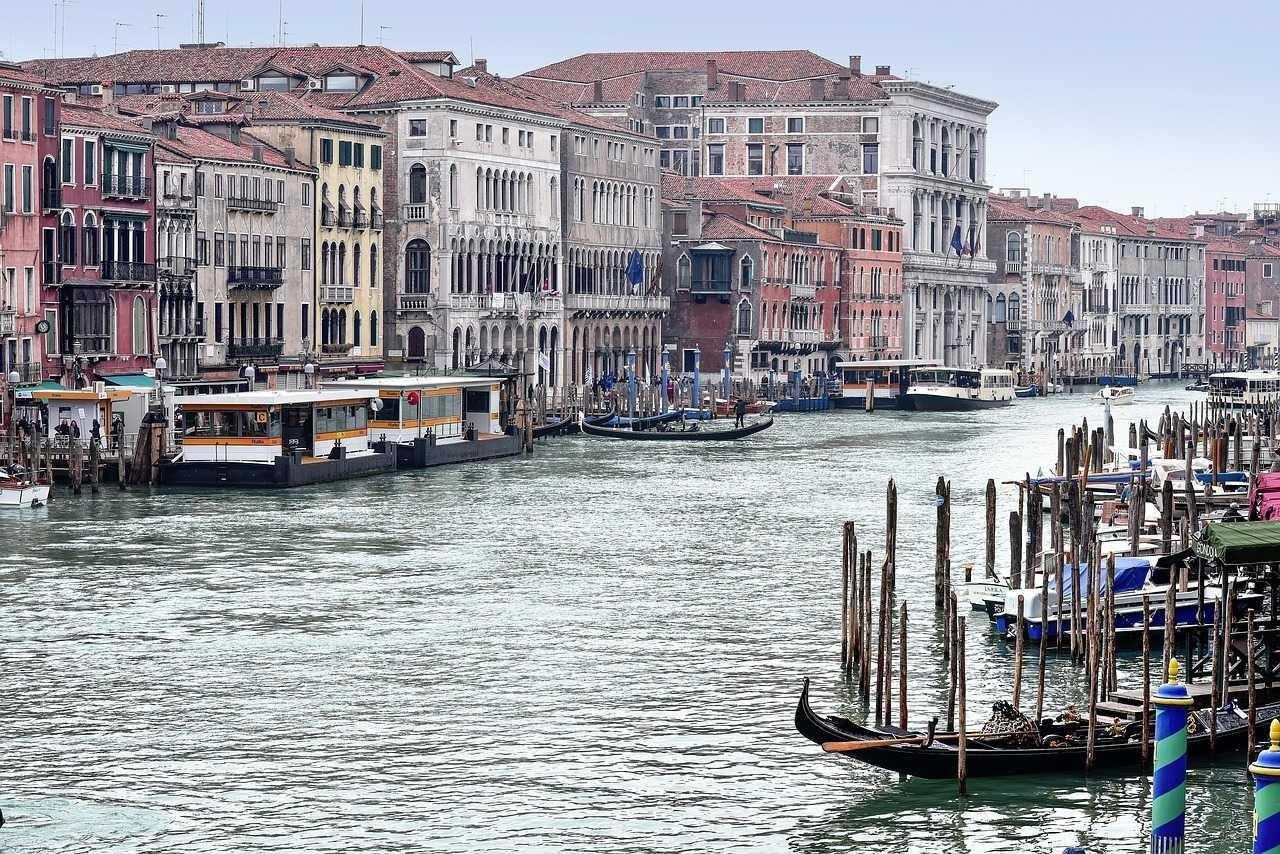kayak: (796, 679, 1276, 780), (158, 382, 398, 487), (992, 555, 1243, 640), (324, 371, 529, 467), (835, 362, 1017, 411), (583, 408, 774, 443), (1247, 717, 1280, 850), (1154, 461, 1243, 500), (1207, 368, 1280, 404), (0, 472, 51, 506), (1249, 468, 1280, 519), (1210, 469, 1250, 496), (1099, 380, 1136, 397)
